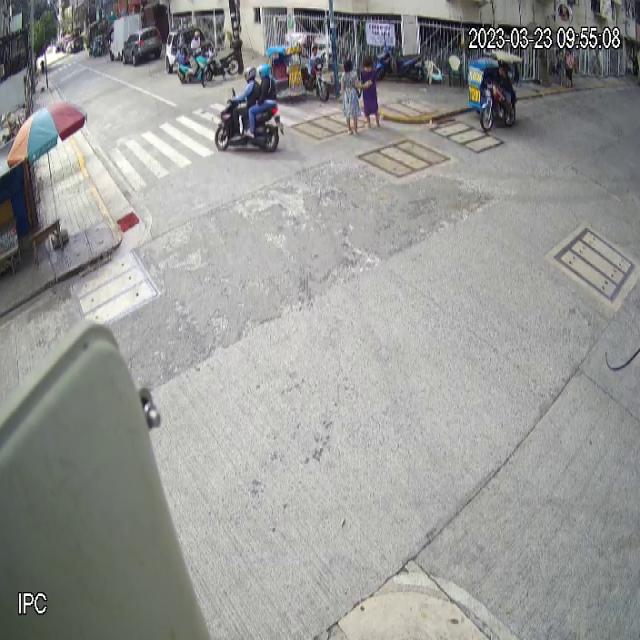Motorcycle: (214, 86, 283, 152)
Tricycle: (467, 49, 524, 132), (266, 31, 330, 100)
